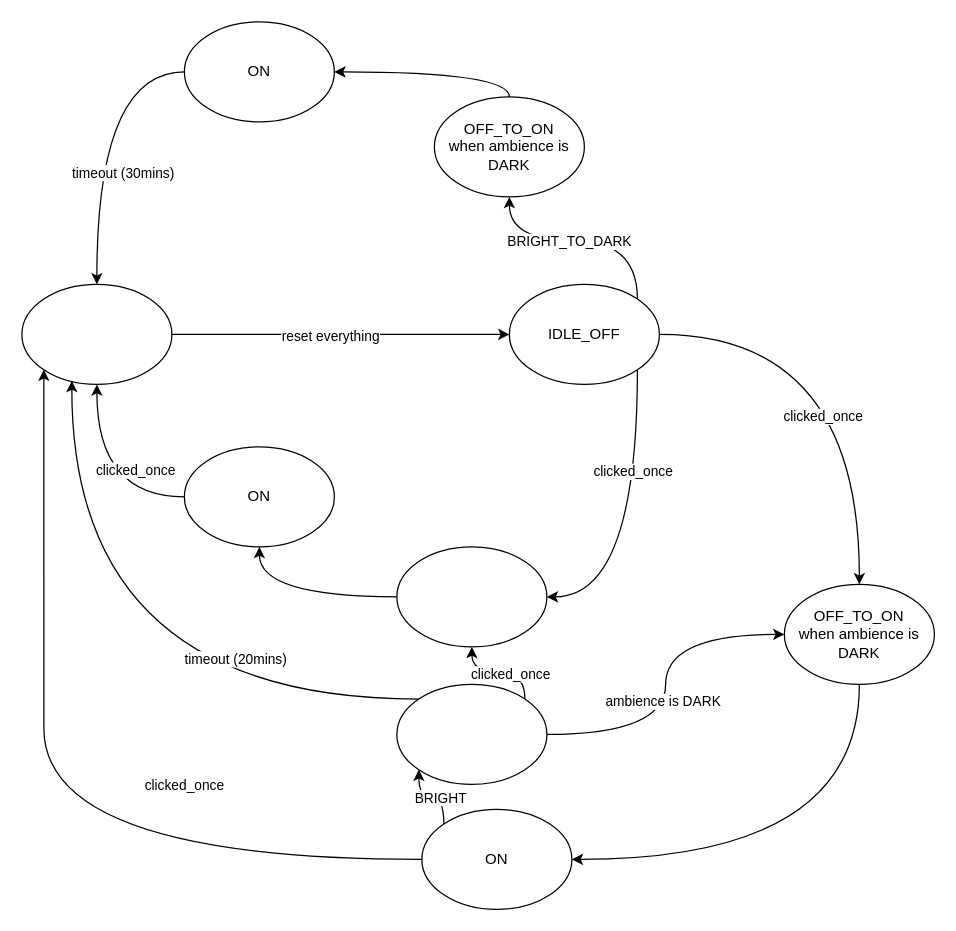
This 956x931 diagram has some shape labels left out. The shapes that lost their labels are listed below. From the top down, each one's centre as x and y in pixels, then its label:
pixel 96 333: ON_TO_OFF
pixel 471 596: OFF_TO_ON when ambience is BRIGHT
pixel 471 733: DISABLE
